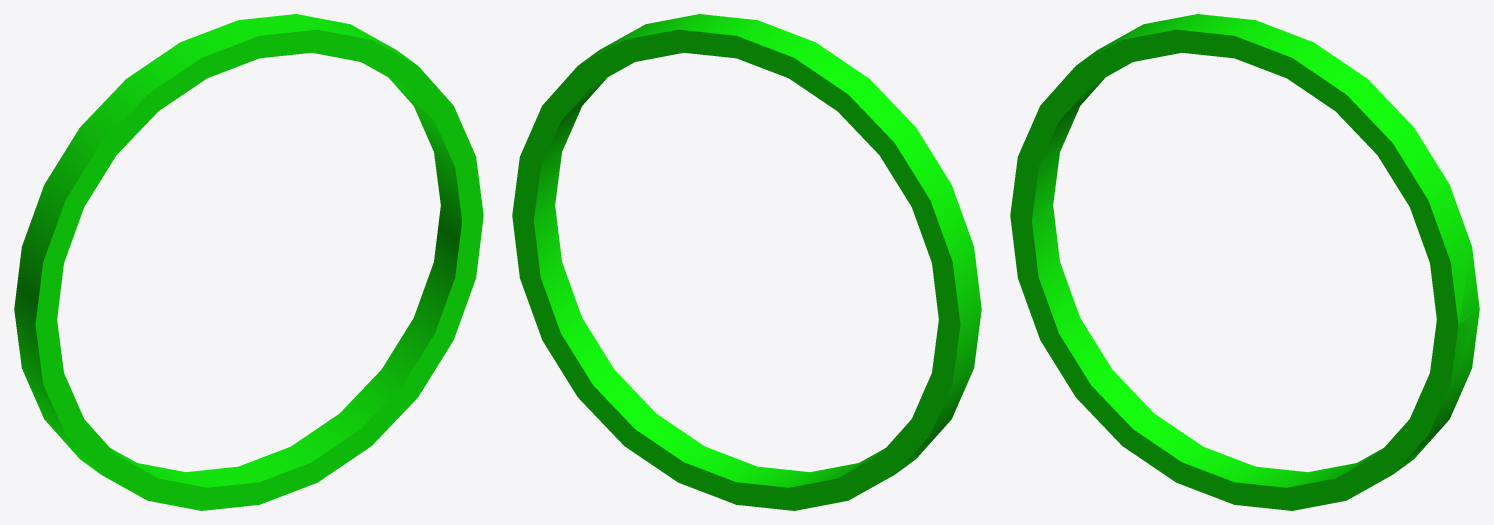
File: greenring.dae
The picture shows the model from 3 angles, left to right: view 1: azimuth 30°, elevation 25°; view 2: azimuth 150°, elevation 25°; view 3: azimuth 330°, elevation 25°; orthographic projection.
Parts seen in each view (by area): view 1: group_0 (×2); view 2: group_0 (×2); view 3: group_0 (×2).
Part boxes in pixels (box(x1,y1,x2,y2)): group_0 (×2): box(14, 14, 483, 510); group_0 (×2): box(512, 14, 981, 510); group_0 (×2): box(1010, 14, 1479, 510).
Bounding box in the file's own units: 601 × 49.51 × 601.
